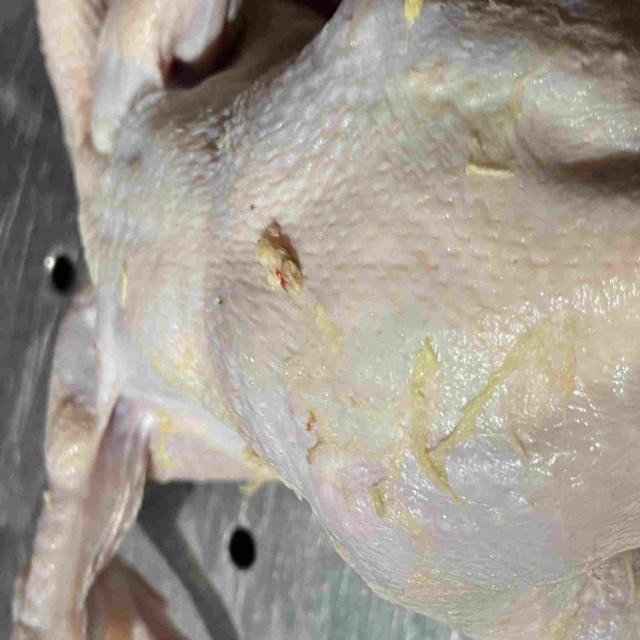back: (80, 33, 640, 479)
leg: (315, 440, 640, 640)
neck: (36, 0, 108, 218)
wing: (15, 296, 186, 640), (96, 0, 230, 141)
